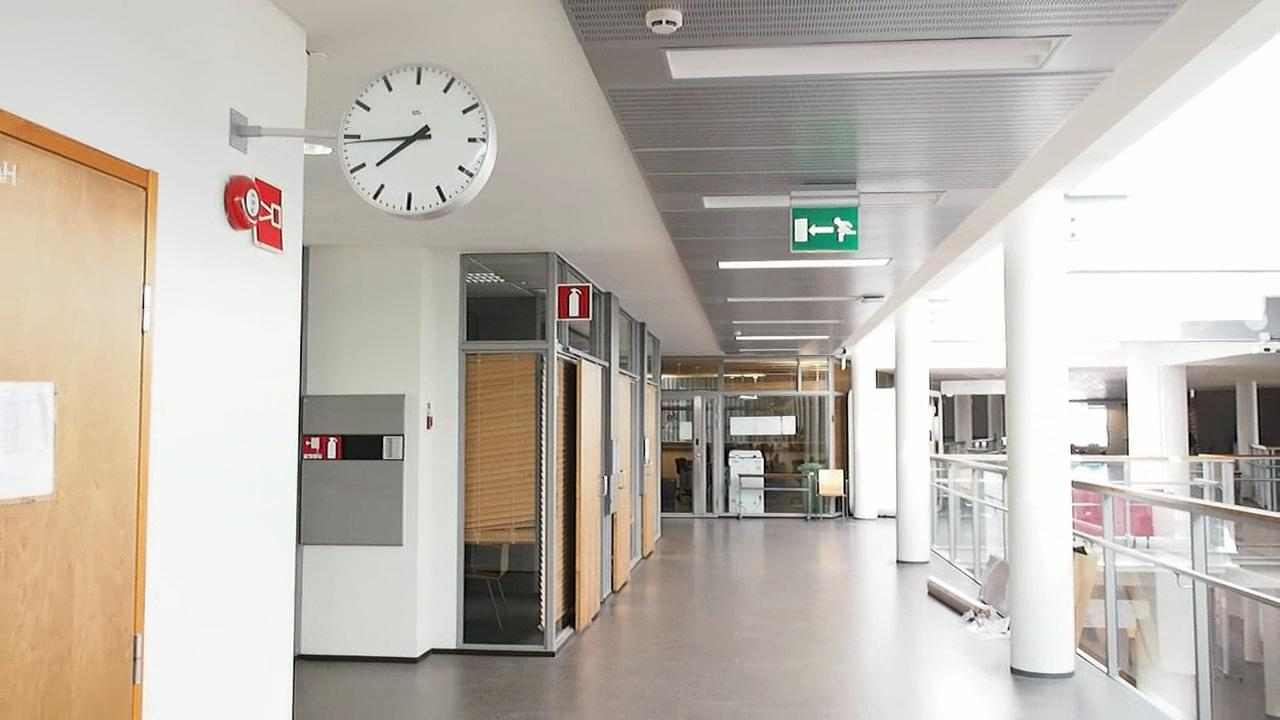clock: (326, 53, 498, 220)
exit: (791, 201, 866, 254)
